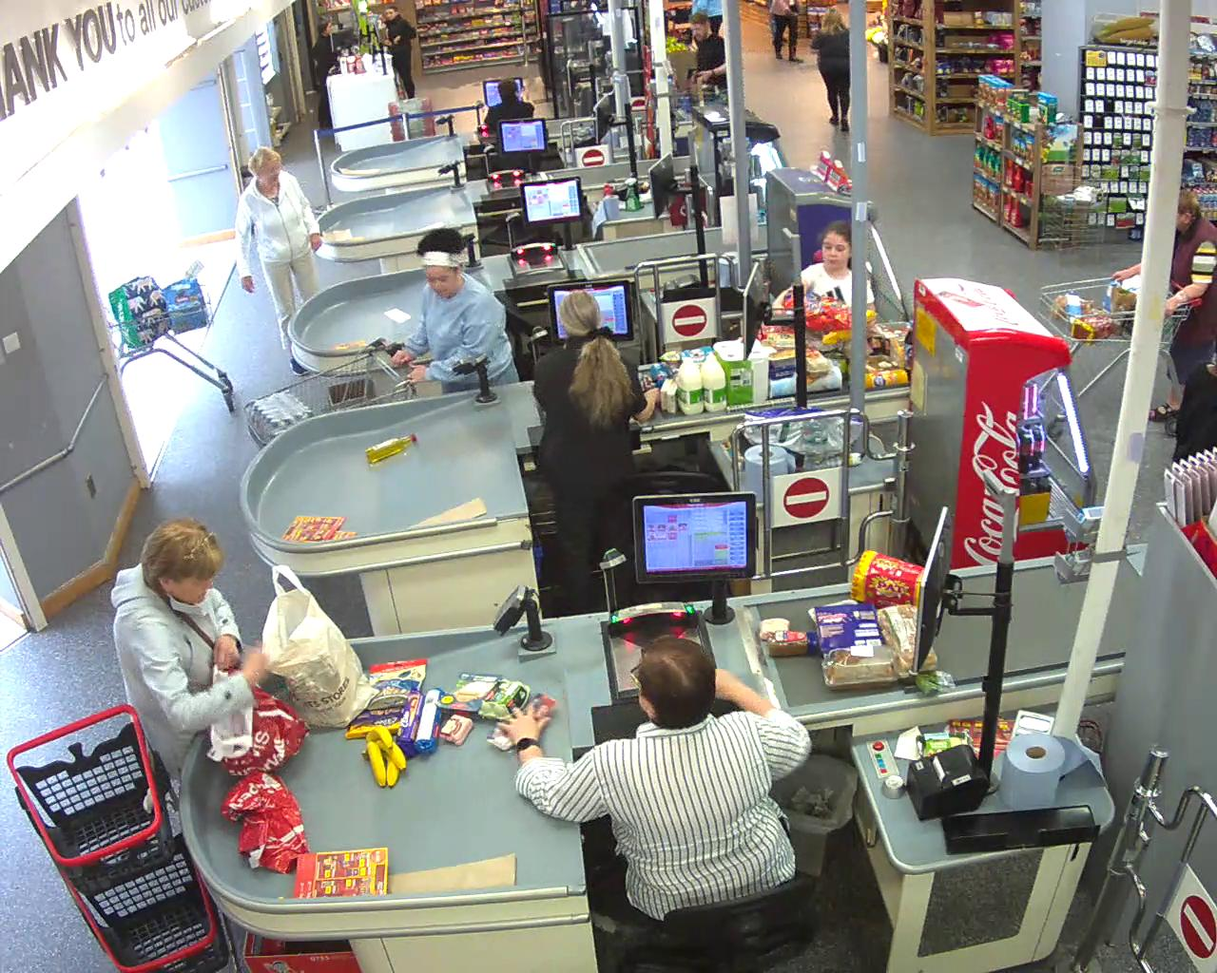filled-trolly: (1038, 263, 1202, 434)
occupied-checkout-counter: (489, 488, 833, 958), (452, 279, 688, 524), (436, 76, 535, 142)
person: (1149, 189, 1217, 422)
person-with-filled-basket-trolly: (1039, 187, 1217, 435)
vacant-checkout-counter: (459, 175, 604, 341), (438, 117, 563, 237)
